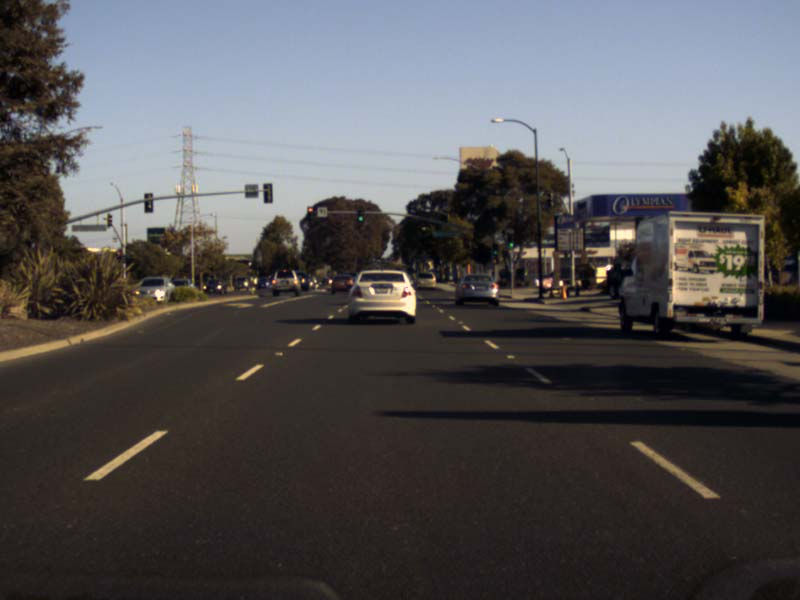Green: (356, 207, 364, 221), (508, 234, 514, 247), (493, 244, 498, 255)
Red: (307, 207, 312, 224)
